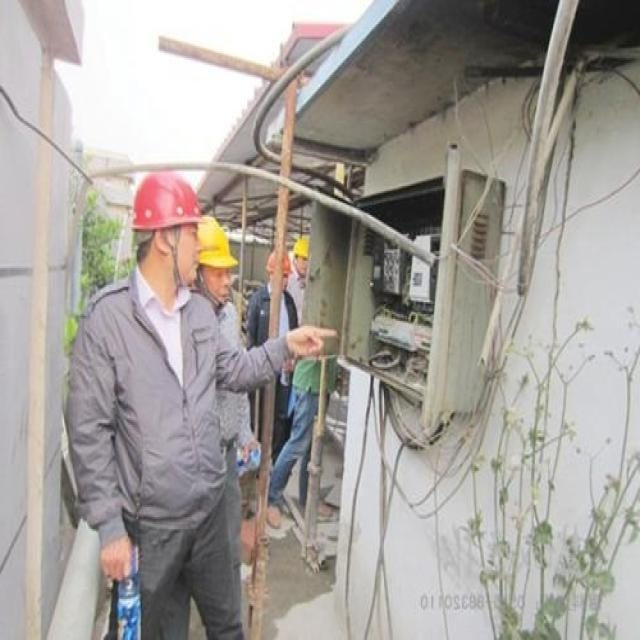Con_Casco: (134, 172, 200, 283), (199, 216, 236, 301)
